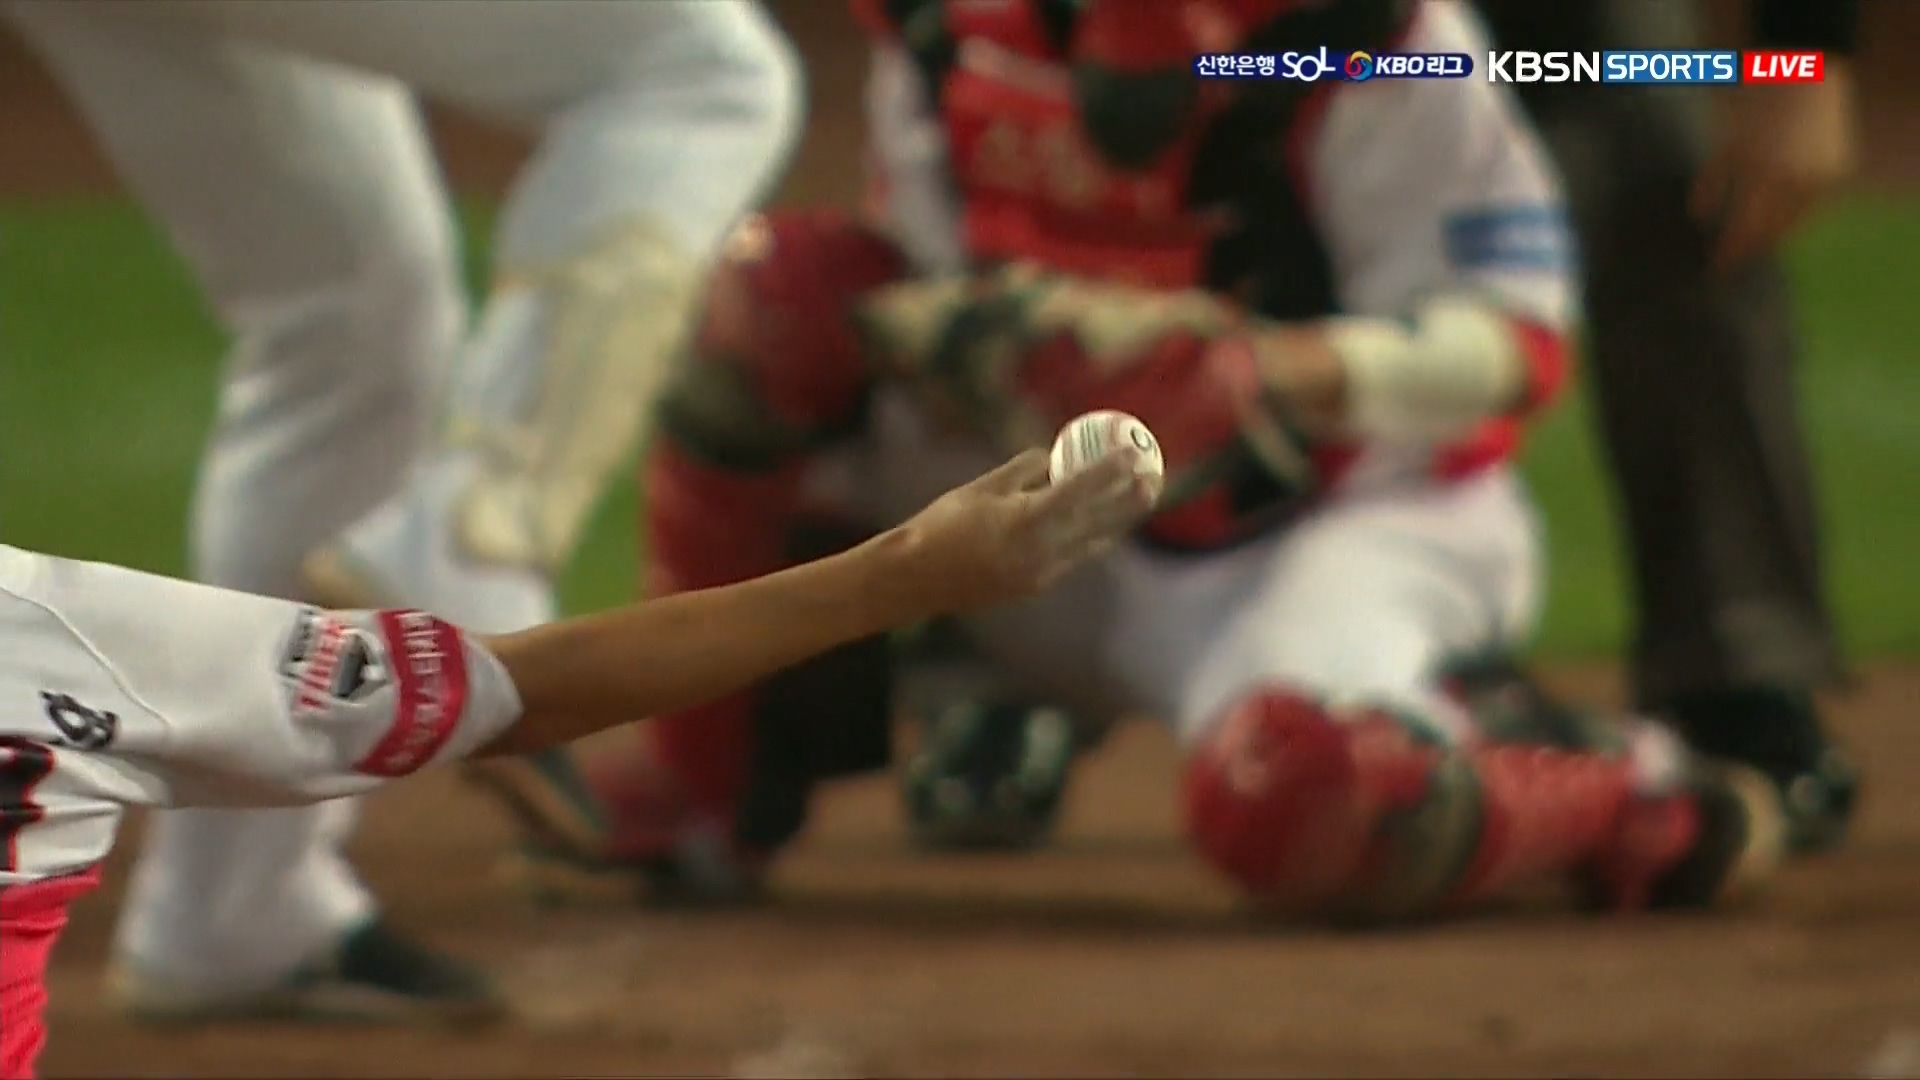zoomin_hand: (516, 406, 1180, 764)
